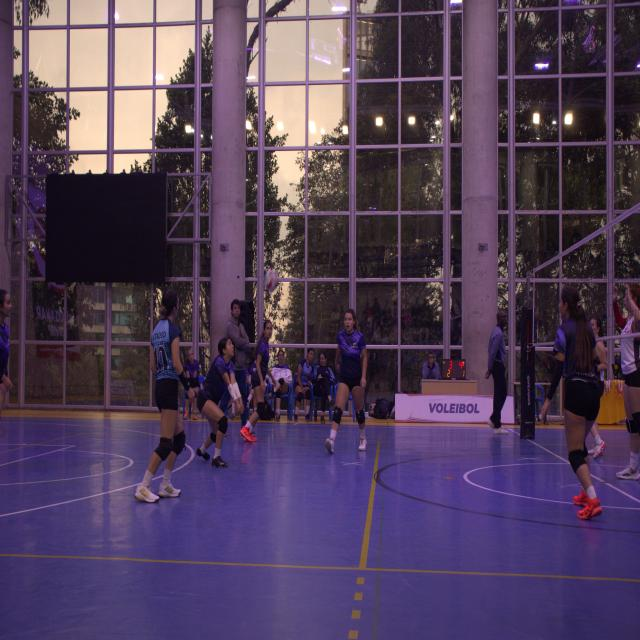volleyball: (265, 269, 278, 289)
